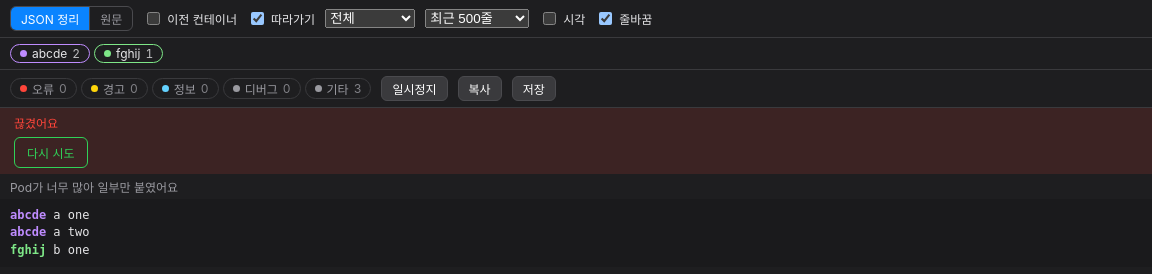
several sources › an error without a pod ends the whole stream and offers retry; a notice is shown as a hint
Expected: the text "Pod가 너무 많아 일부만 붙였어요" is shown, [10,180,178,195]
Expected: the text "끊겼어요" is shown, [14,116,58,131]
Click the button "다시 시도" at (51, 152), box [14,137,88,168]
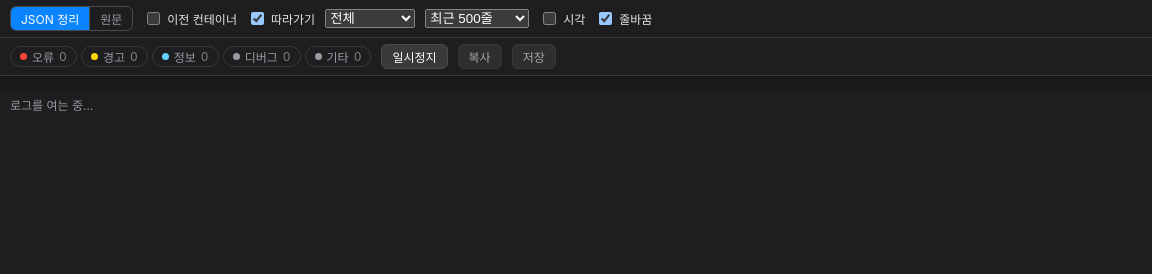
Now the text "끊겼어요" is gone
